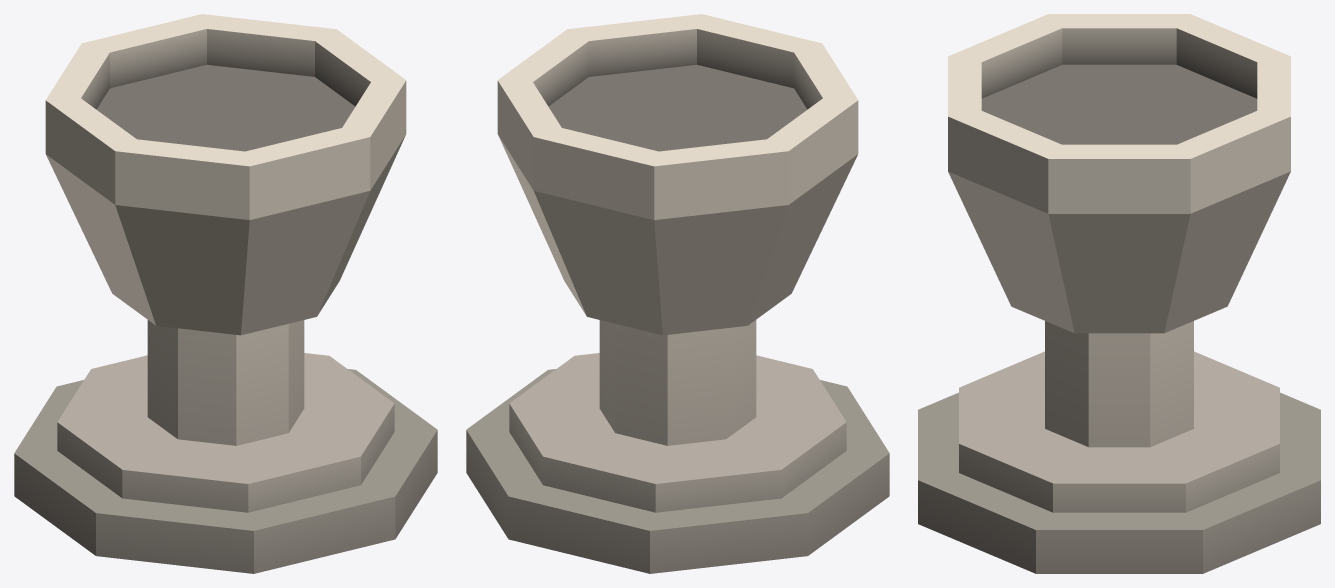
Rendered from SM_VKI_Prop_Font.fbx.
3 renders of one model, left to right at view 1: azimuth 30°, elevation 25°; view 2: azimuth 150°, elevation 25°; view 3: azimuth 270°, elevation 25°, orthographic. The views are drawn at different scales.
Parts seen in each view (by area): view 1: SM_VKI_Prop_Font.001; view 2: SM_VKI_Prop_Font.001; view 3: SM_VKI_Prop_Font.001.
Part boxes in pixels (x1,y1,x2,y2): SM_VKI_Prop_Font.001: [14, 14, 437, 573]; SM_VKI_Prop_Font.001: [466, 14, 889, 573]; SM_VKI_Prop_Font.001: [918, 14, 1320, 573].
Size of the model in its own units: 0.9978 by 1.1 by 0.9978.
